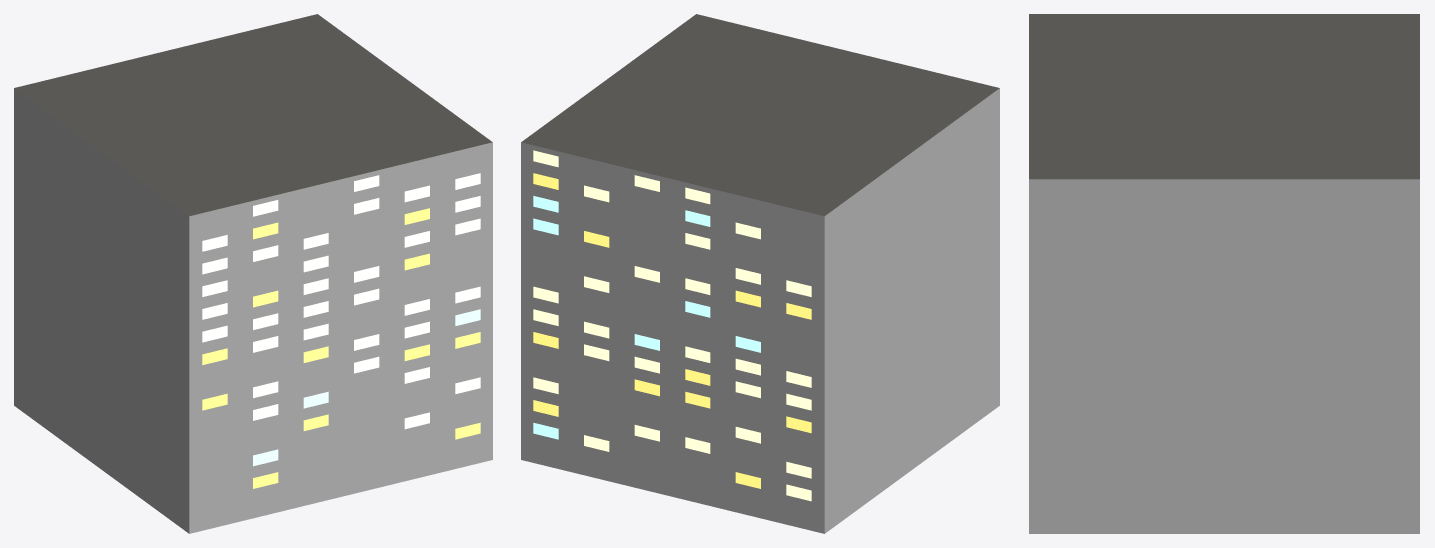
Rendered from city-block-lit-14.glb.
The picture shows the model from 3 angles, left to right: view 1: azimuth 30°, elevation 25°; view 2: azimuth 150°, elevation 25°; view 3: azimuth 270°, elevation 25°; orthographic projection. The views are drawn at different scales.
Visible parts, largest first — view 1: city_block, window warm, window amber, window tv; view 2: city_block, window warm, window amber, window tv; view 3: city_block.
Part boxes in pixels (x1,y1,x2,y2): city_block: (14,14,492,533); window warm: (202,173,480,429); window amber: (202,208,480,488); window tv: (253,309,480,466); city_block: (521,14,999,533); window warm: (533,150,811,501); window amber: (533,173,811,488); window tv: (533,196,760,439); city_block: (1029,14,1419,533).
Size of the model in its own units: 1 by 1 by 1.
